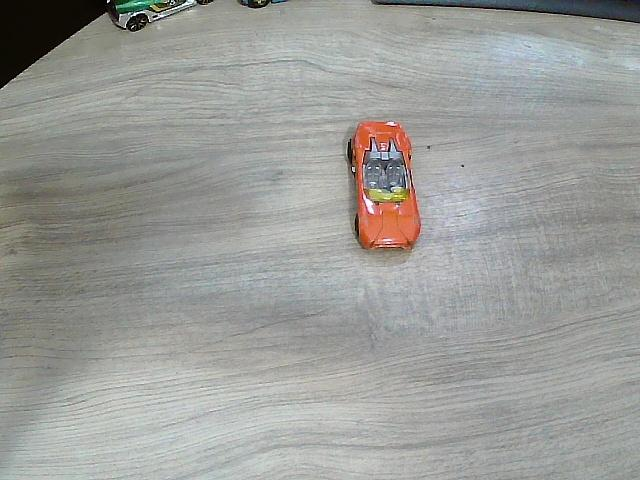Carro: (347, 121, 422, 252)
